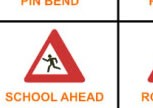Traffic signal: (23, 28, 87, 84)
